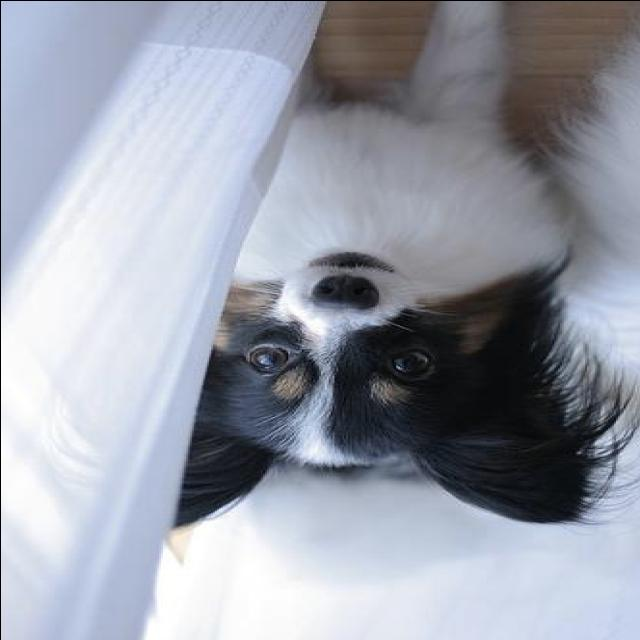papillon: (172, 3, 640, 530)
